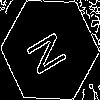N: (25, 25, 76, 79)
